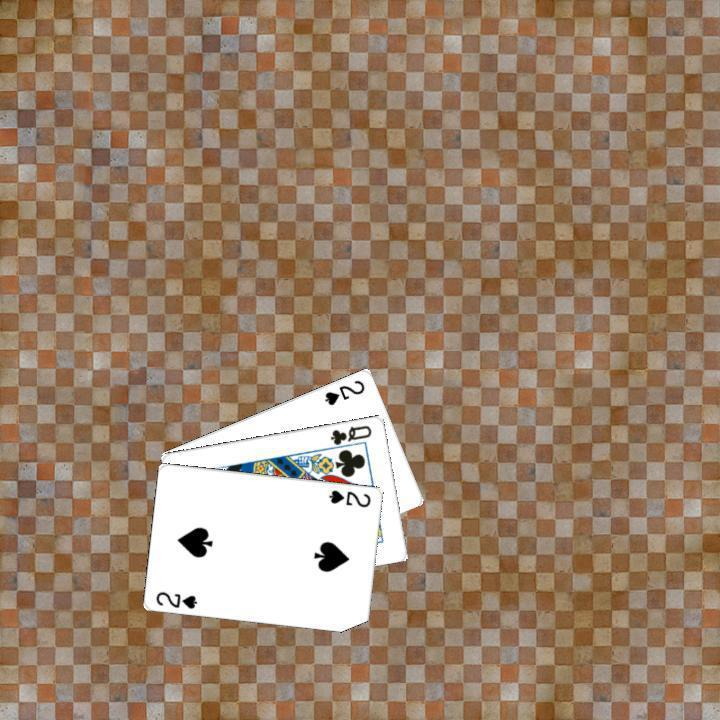2: (320, 375, 367, 407), (325, 485, 373, 509), (152, 587, 200, 611)
Q: (326, 420, 374, 446)
